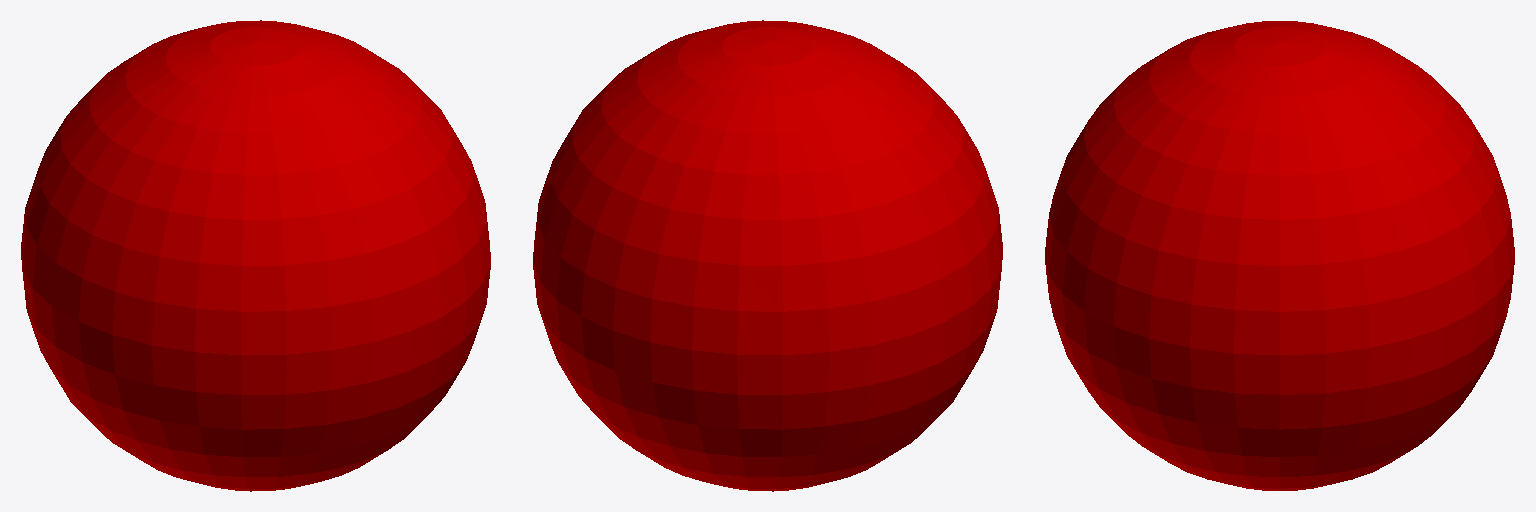
The robot description file, URDF, robot "red_ball":
<?xml version="1.0"?>
<robot name="red_ball">
<link name="red_ball">
    <visual>
      <geometry>
        <mesh filename="package://laas_objects/res/obj/red_ball.obj"/>
      </geometry>
      <origin rpy="1.57075 0 0" xyz="0 0 0"/>
      <material name="red">
        <color rgba=".8 0 0 1"/>
      </material>
    </visual>
    <collision>
      <geometry>
        <mesh filename="package://laas_objects/res/obj/red_ball.obj"/>
      </geometry>
      <origin rpy="1.57075 0 0" xyz="0 0 0"/>
      <contact_coefficients mu="1000.0" kp="0.00" kd="0.0"/>
    </collision>
    <inertial>
      <mass value="0.075"/>
      <inertia ixx="0.000378125" ixy="0.0" ixz="0.0" iyy="0.000378125" iyz="0.0" izz="0.000378125"/>
    </inertial>
</link>
</robot>

--- What the picture shows (computed from the rendered views, not written in the file) ---
The picture shows the robot from 3 angles, left to right: view 1: azimuth 30°, elevation 25°; view 2: azimuth 150°, elevation 25°; view 3: azimuth 270°, elevation 25°; orthographic projection.
Robot: red_ball — 1 links, 0 joints (none); root link red_ball; default pose: all joints at 0.
Visible links, largest first — view 1: red_ball; view 2: red_ball; view 3: red_ball.
Link boxes in pixels (left/top/right/bottom): red_ball: left=21, top=20, right=490, bottom=491; red_ball: left=533, top=20, right=1002, bottom=491; red_ball: left=1045, top=21, right=1514, bottom=490.
Bounding box of the posed robot: 0.056 × 0.056 × 0.056 m (x, y, z).
1 mesh visuals loaded from 1 distinct referenced files (1 OBJ).